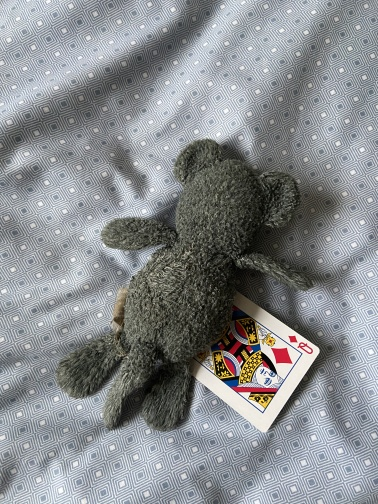queen: (146, 271, 321, 435)
